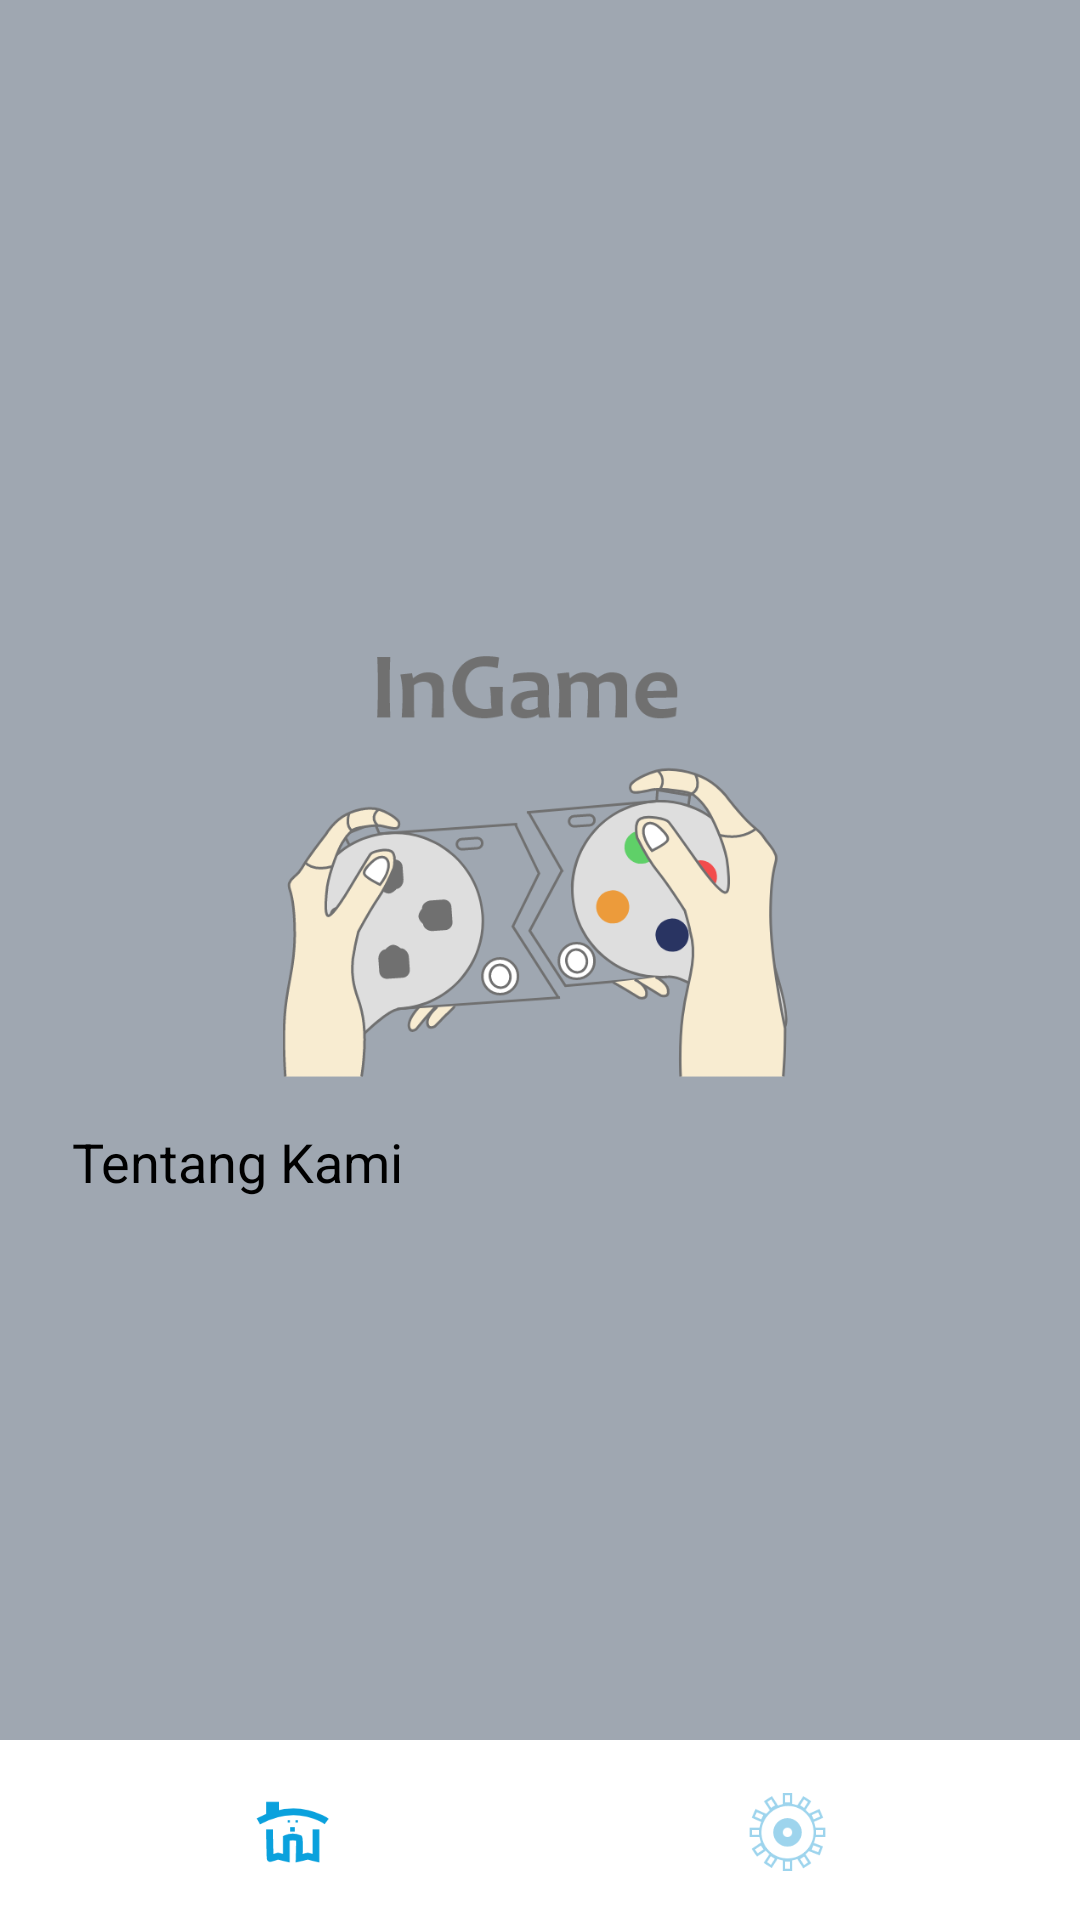

Named icons in this screenshot (1080×1920) and their centers, (x=x, y=y):
home: (x=292, y=1832)
settings: (x=787, y=1832)
